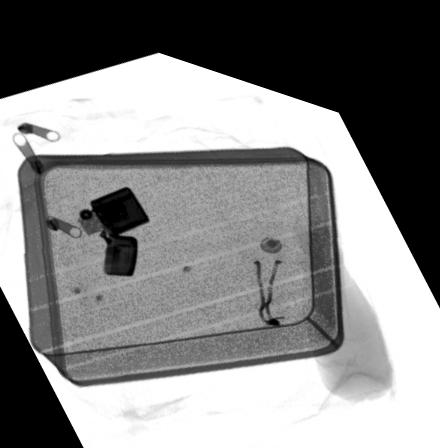Lighter: (76, 177, 150, 269)
